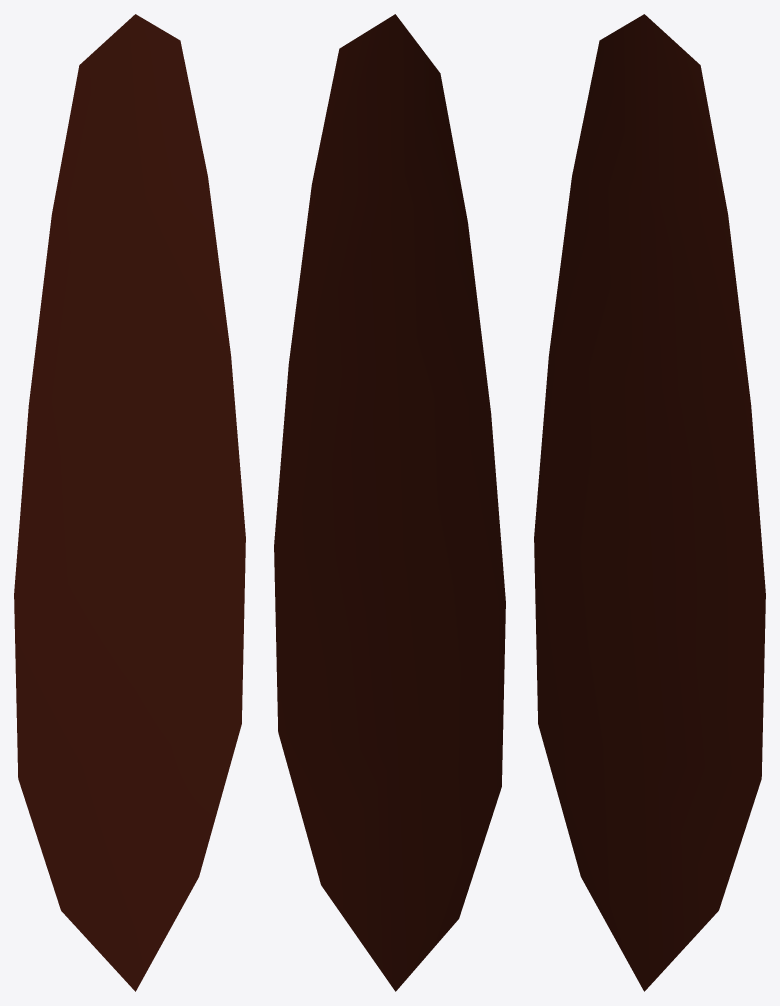
File: pheasant_feather_flight_secondary_008.obj
3 renders of one model, left to right at view 1: azimuth 30°, elevation 25°; view 2: azimuth 150°, elevation 25°; view 3: azimuth 330°, elevation 25°, orthographic.
Parts seen in each view (by area): view 1: feather_flight_secondary_008; view 2: feather_flight_secondary_008; view 3: feather_flight_secondary_008.
Boxes of the visible parts, x1,y1,x2,y2 form: feather_flight_secondary_008: (14,14,245,991); feather_flight_secondary_008: (274,14,505,991); feather_flight_secondary_008: (534,14,765,991).
Bounding box in the file's own units: 0.0152 × 0.0613 × 0.000653.
